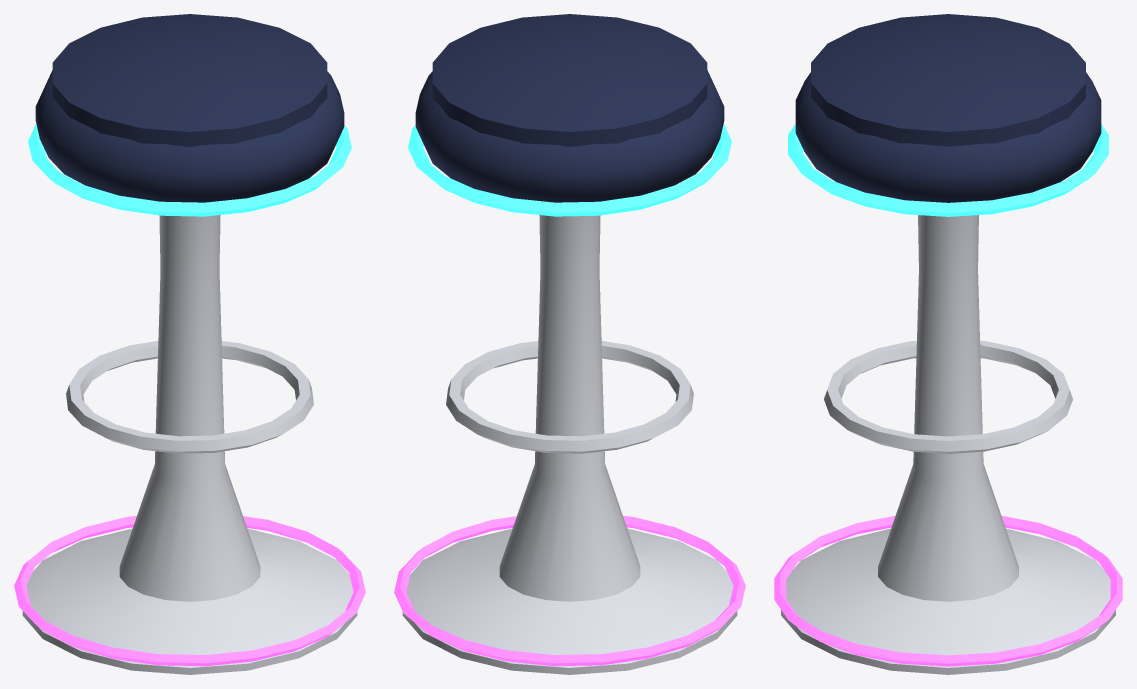
File: stool_bar_neon.glb
3 views of the same model, side by side, from view 1: azimuth 30°, elevation 25°; view 2: azimuth 150°, elevation 25°; view 3: azimuth 270°, elevation 25° (orthographic).
Parts seen in each view (by area): view 1: stool_bar_neon; view 2: stool_bar_neon; view 3: stool_bar_neon.
Boxes of the visible parts, <box> form: stool_bar_neon: <box>14,14,365,674</box>; stool_bar_neon: <box>394,14,745,674</box>; stool_bar_neon: <box>774,14,1122,674</box>.
Bounding box in the file's own units: 0.456 × 0.79 × 0.4514.
